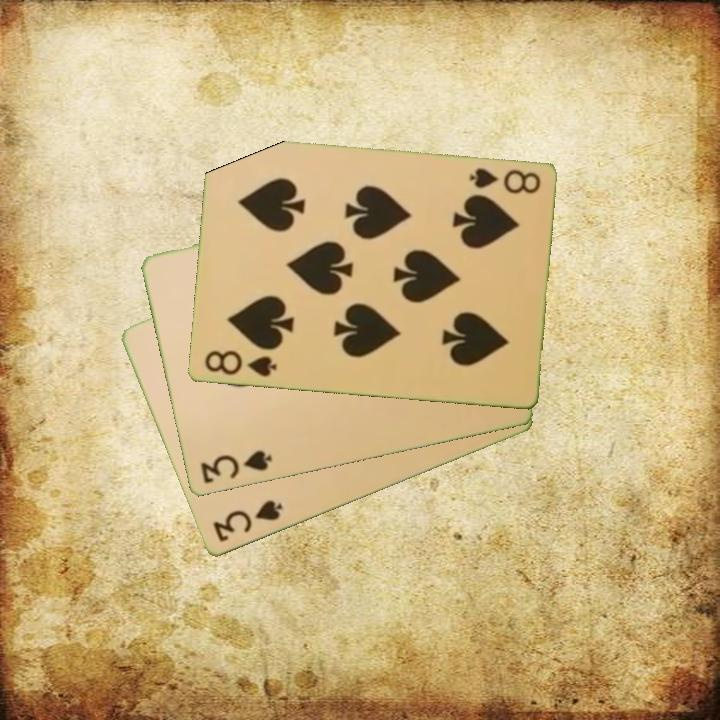3s: (209, 496, 285, 546), (197, 447, 275, 487)
8s: (465, 164, 543, 198), (200, 347, 280, 380)
